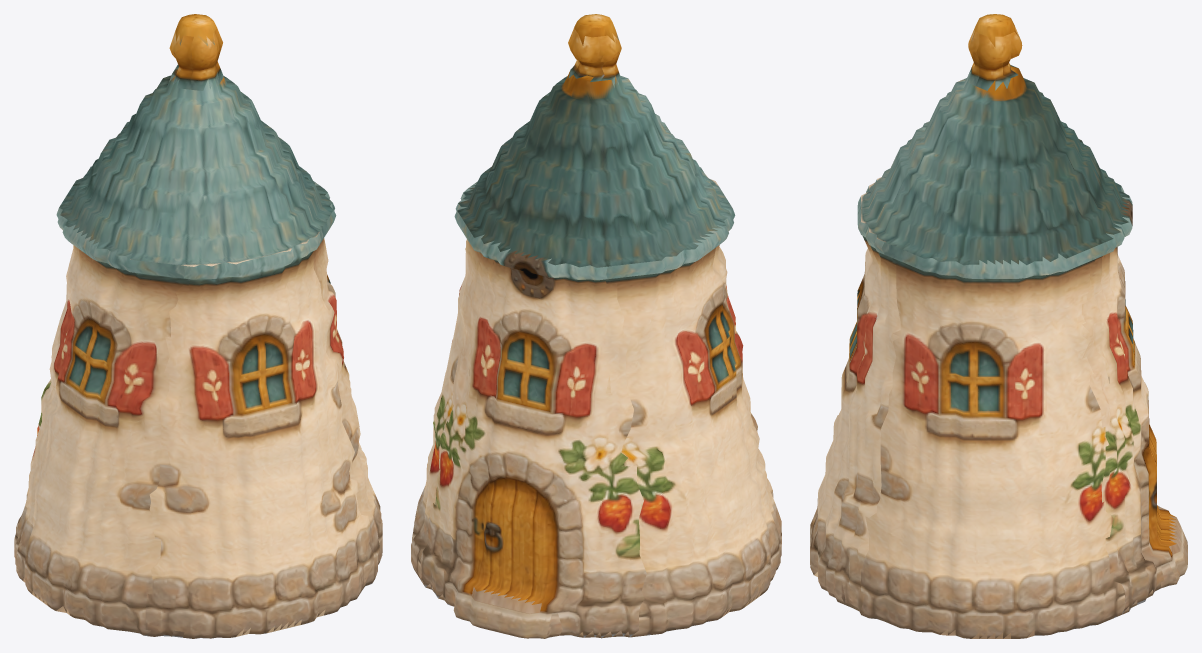
The model's file is mill-body.glb.
The picture shows the model from 3 angles, left to right: view 1: azimuth 30°, elevation 25°; view 2: azimuth 150°, elevation 25°; view 3: azimuth 270°, elevation 25°; orthographic projection.
Bounding box in the file's own units: 0.6161 × 1 × 0.6302.
1 material, 1 textured.
